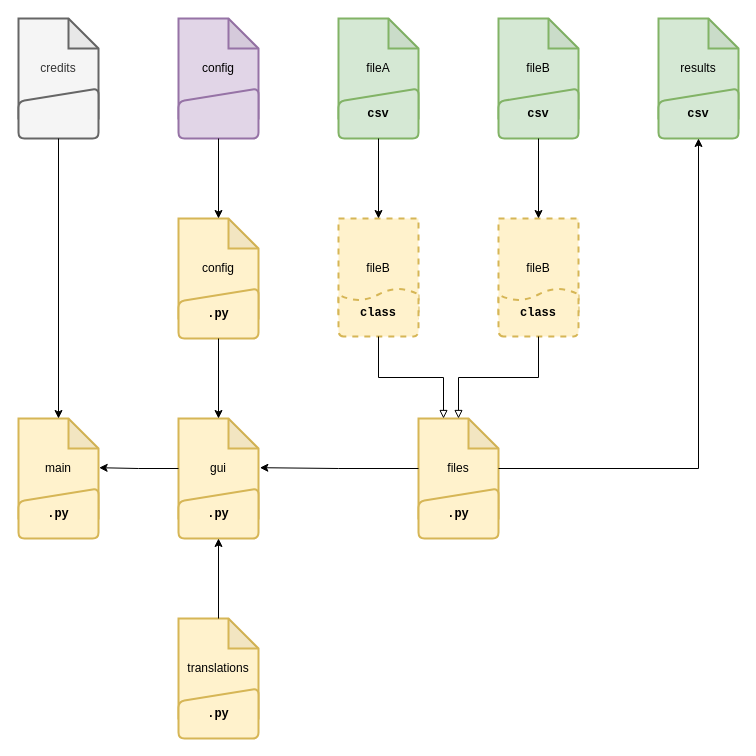
This 756x756 diagram has some shape labels left out. The centre of each missing label's shape, as x and y in pixels:
". json" belongs at [218,113].
". txt" belongs at [58,113].
